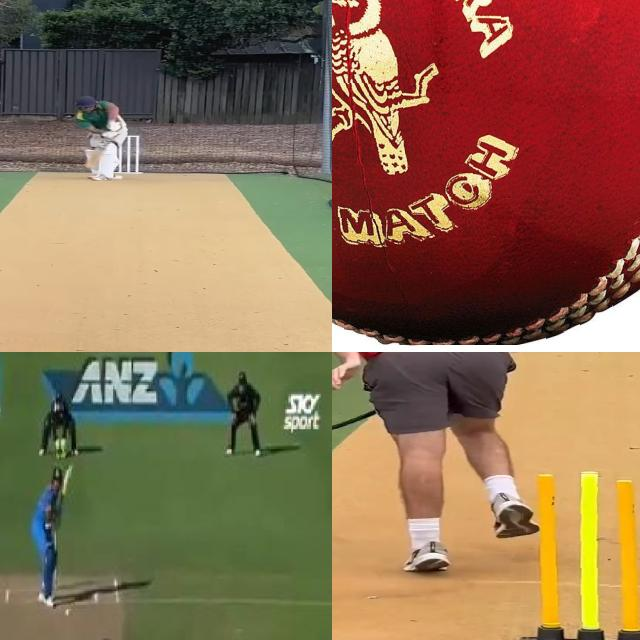Cricket ball: (332, 0, 640, 344), (64, 606, 74, 618), (115, 174, 125, 180), (507, 352, 522, 354)
Stumps: (520, 471, 640, 640), (117, 136, 140, 174)
